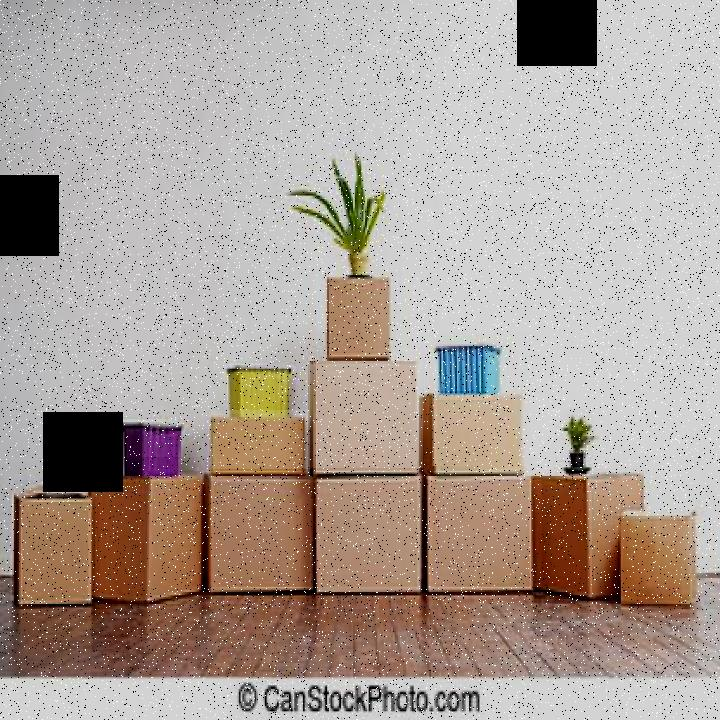box: (97, 457, 206, 606), (534, 468, 643, 603), (203, 478, 315, 599), (426, 480, 542, 594), (315, 480, 424, 594), (309, 364, 423, 468), (14, 480, 92, 602), (622, 516, 700, 620), (428, 394, 530, 466), (325, 273, 397, 360), (211, 410, 310, 469)
